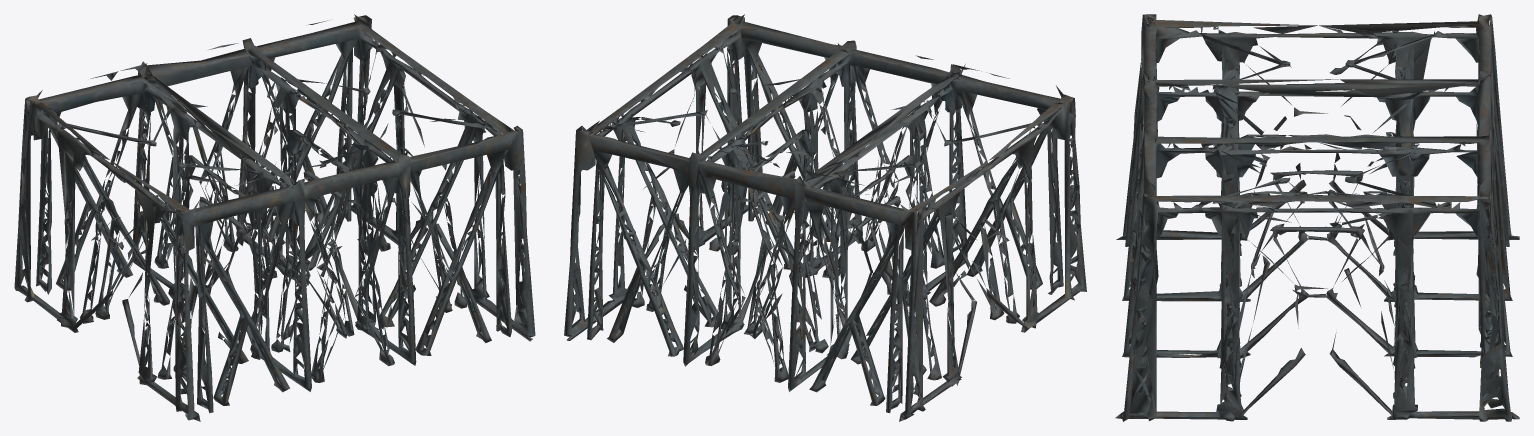
Rendered from pipe_bridge.glb.
The picture shows the model from 3 angles, left to right: view 1: azimuth 30°, elevation 25°; view 2: azimuth 150°, elevation 25°; view 3: azimuth 270°, elevation 25°; orthographic projection. The views are drawn at different scales.
Size of the model in its own units: 1.9 by 1.1 by 1.73.
Materials: 1 (1 with a texture image).
